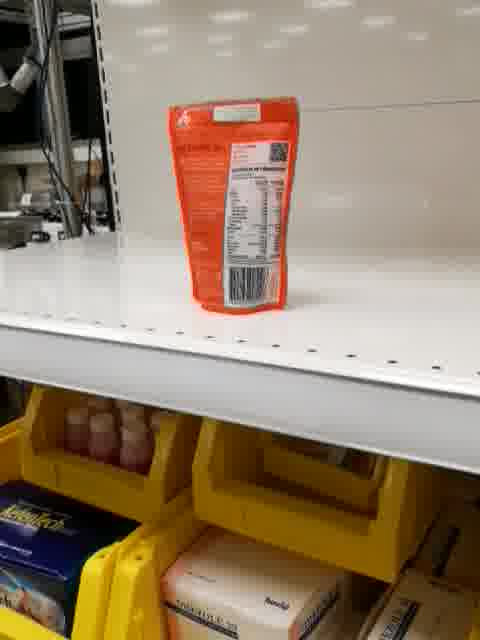whitechia: (167, 93, 302, 315)
